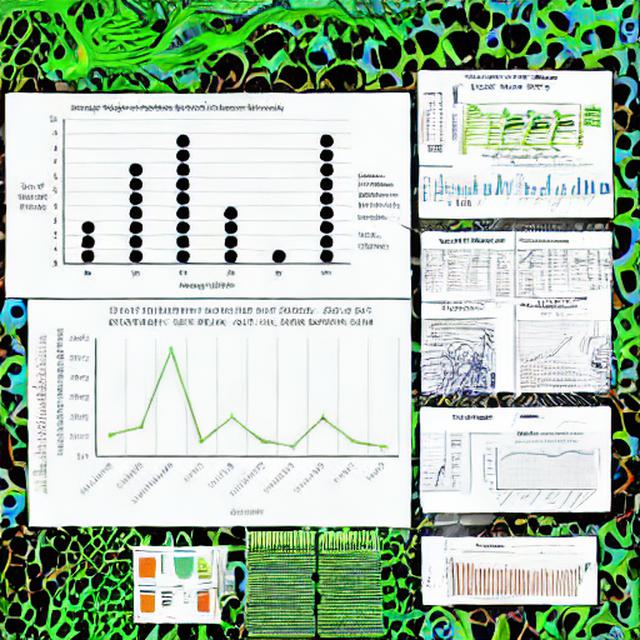Graph: (48, 300, 406, 523), (9, 96, 356, 297), (479, 438, 601, 510), (442, 549, 532, 603), (511, 163, 599, 217), (515, 332, 574, 368)
